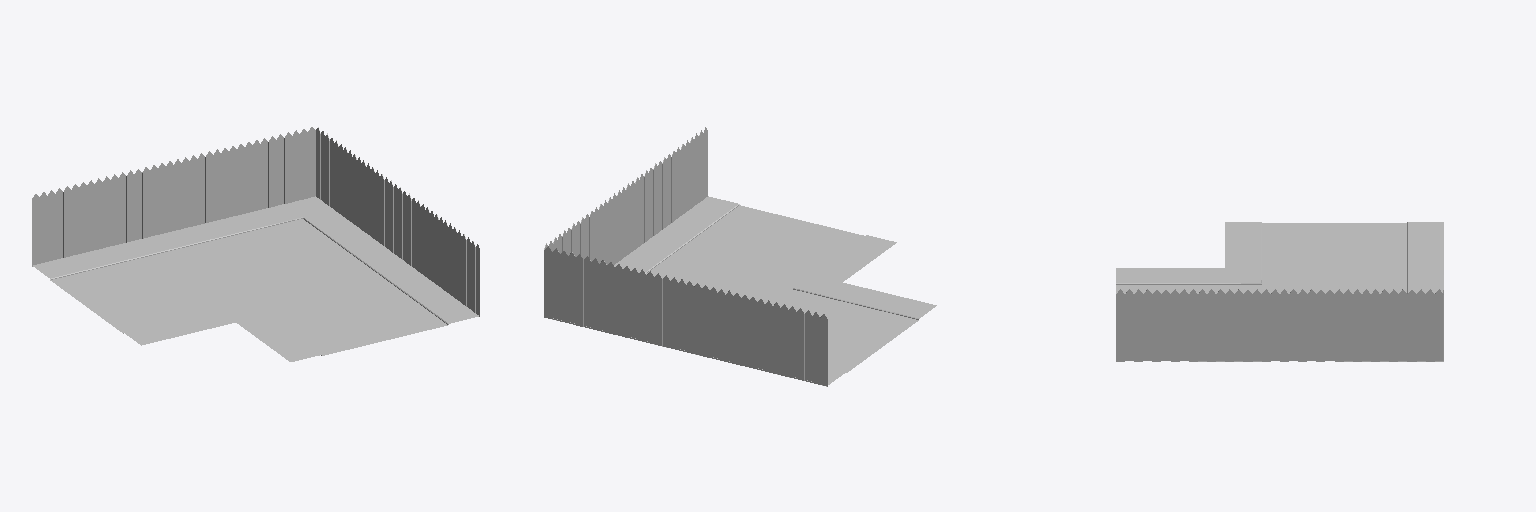
The model's file is road_corner_fence.obj.
3 views of the same model, side by side, from view 1: azimuth 30°, elevation 25°; view 2: azimuth 150°, elevation 25°; view 3: azimuth 270°, elevation 25° (orthographic).
Parts seen in each view (by area): view 1: ROAD_TILE_Plane.005_ROAD_TILE_Plane.001; view 2: ROAD_TILE_Plane.005_ROAD_TILE_Plane.001; view 3: ROAD_TILE_Plane.005_ROAD_TILE_Plane.001.
Part boxes in pixels (x1,y1,x2,y2): ROAD_TILE_Plane.005_ROAD_TILE_Plane.001: (32, 127, 479, 361); ROAD_TILE_Plane.005_ROAD_TILE_Plane.001: (544, 127, 936, 386); ROAD_TILE_Plane.005_ROAD_TILE_Plane.001: (1116, 222, 1443, 361).
Bounding box in the file's own units: 45.04 × 11 × 45.04.